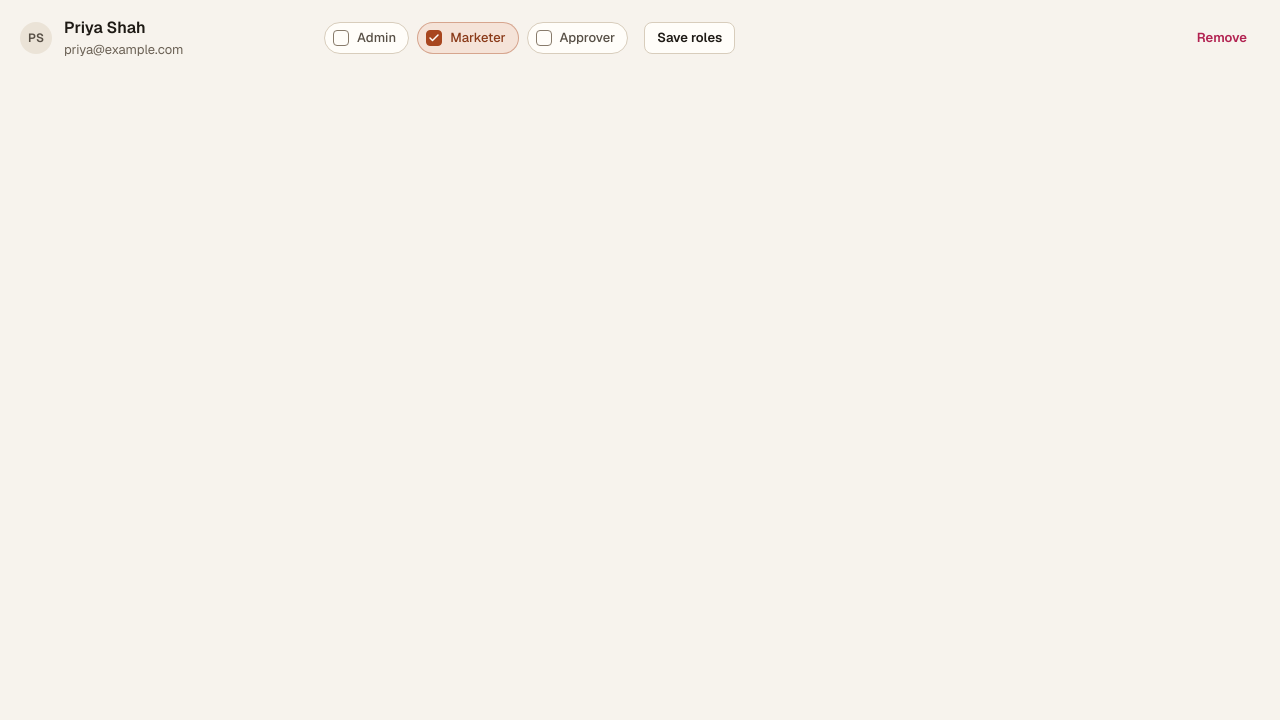
Test: blocks a second removal while the first is still running
Click the button "Remove" at (1222, 38), box 1184,22 -> 1260,54
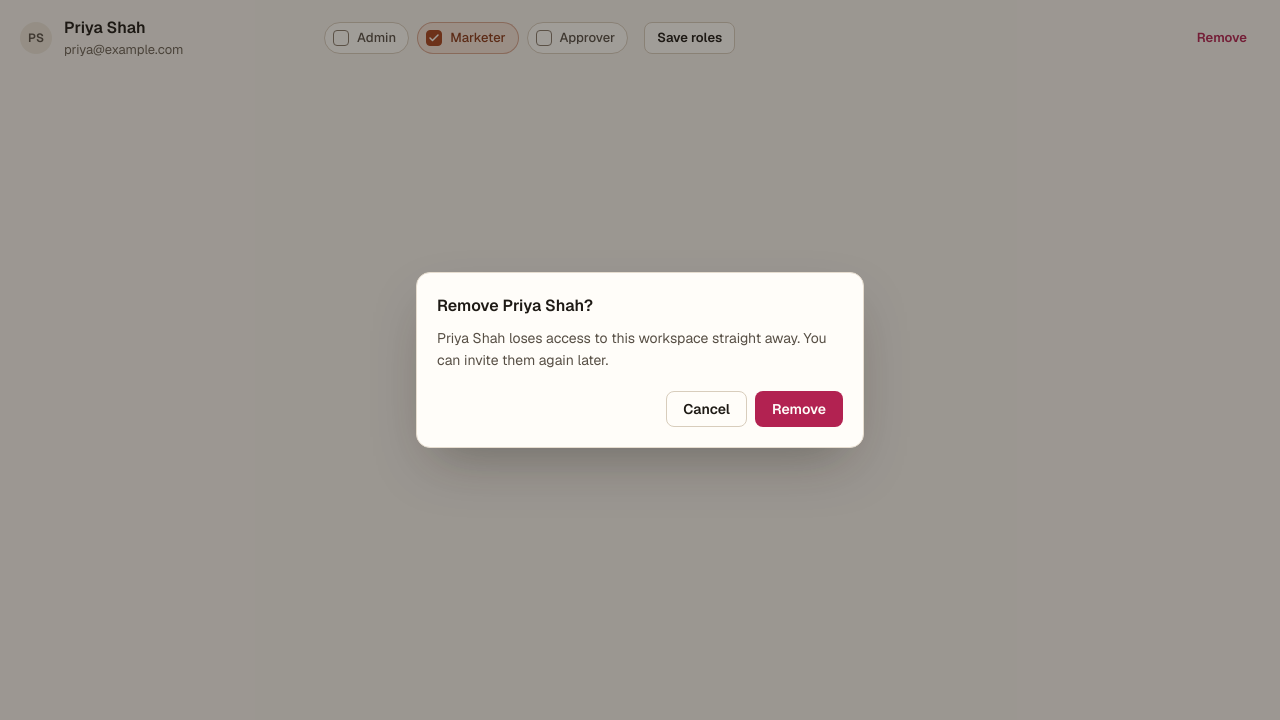
Click the button "Remove" at (799, 409), box 755,391 -> 843,427
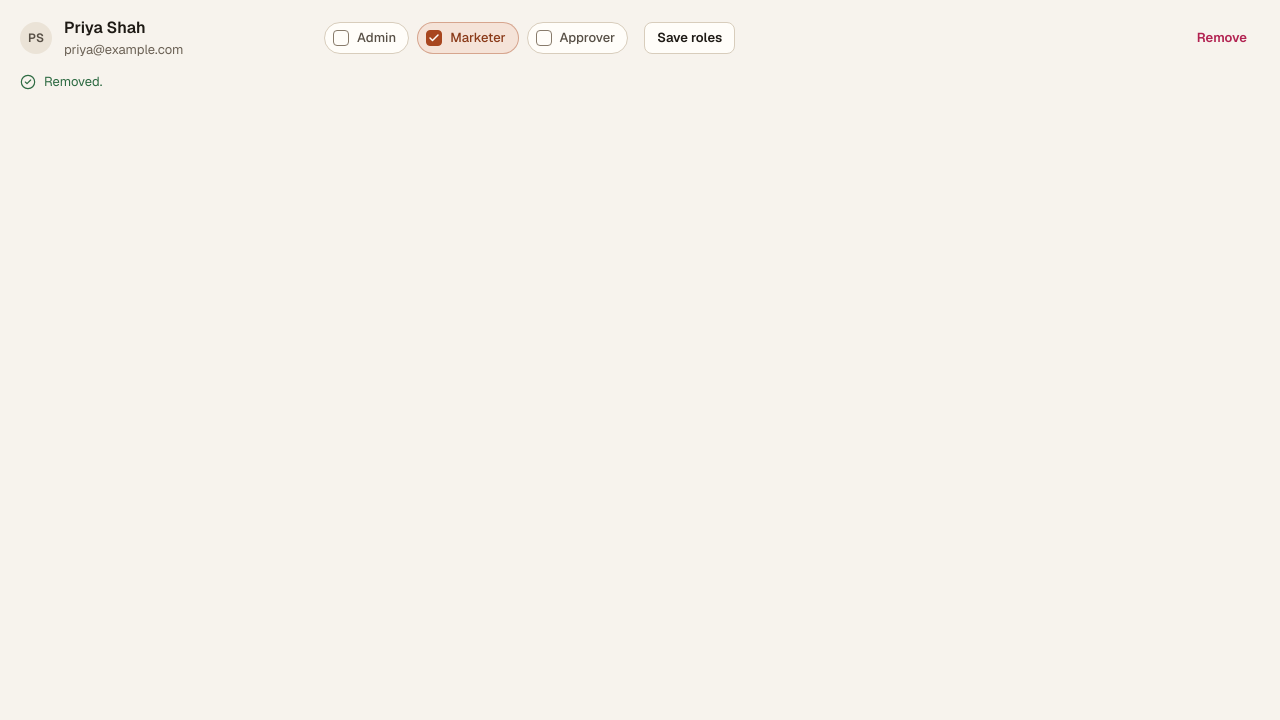
Check: the dialog is gone
